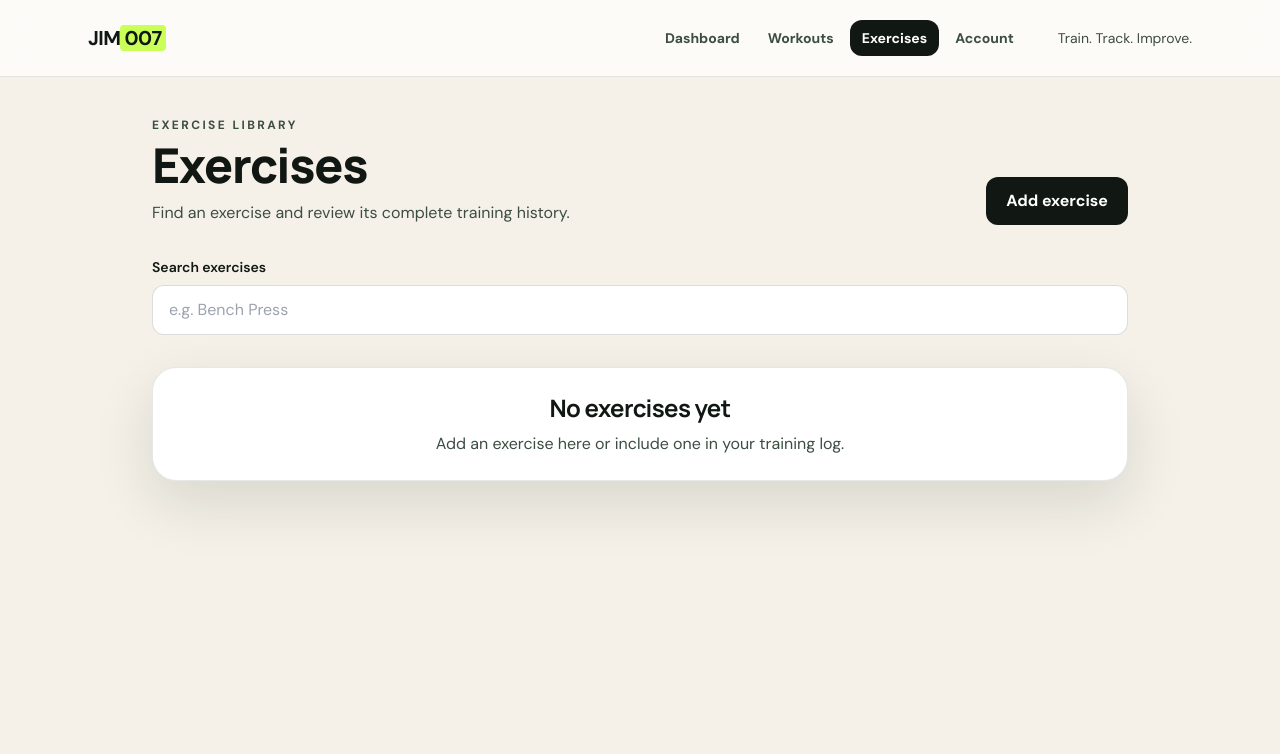
Test: authentication and optional integrations › can cancel the form and keeps API errors actionable
Step 1. Click the button "Add exercise" → (1057, 201), box [986, 177, 1128, 225]
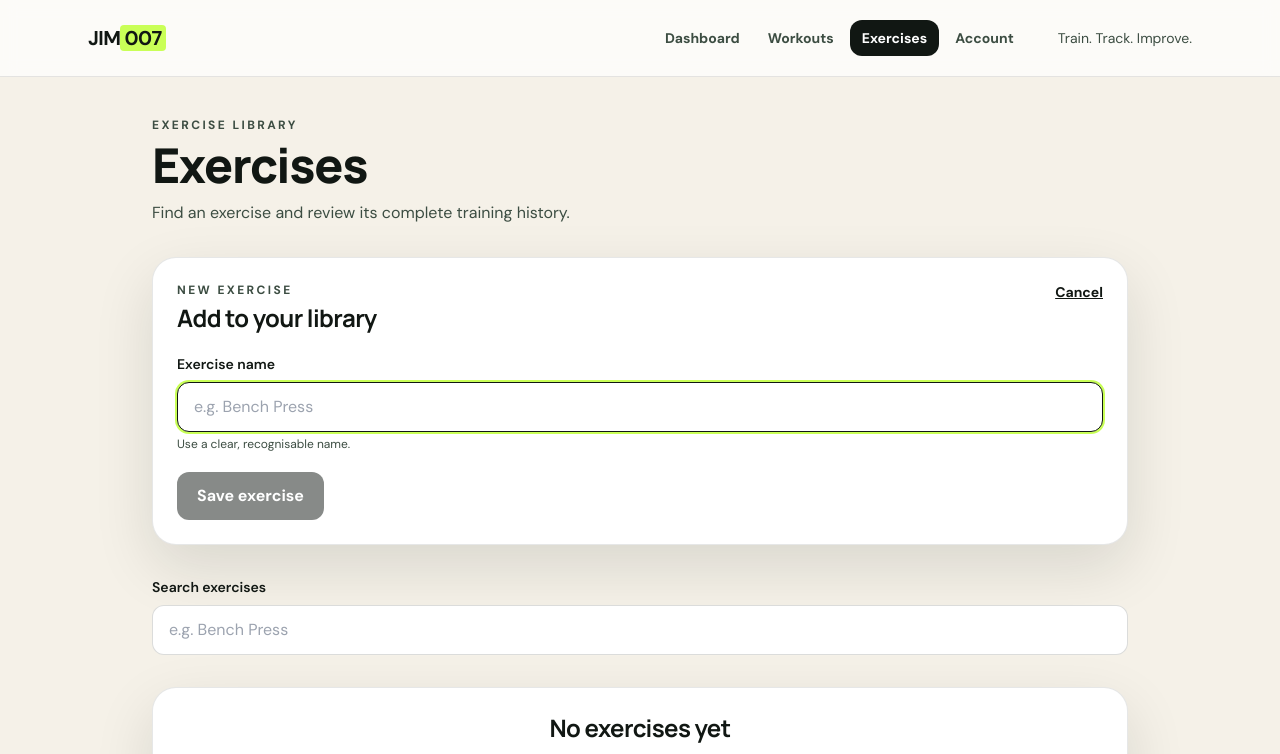
Step 2. Click the button "Cancel" → (1079, 292), box [1055, 282, 1103, 302]
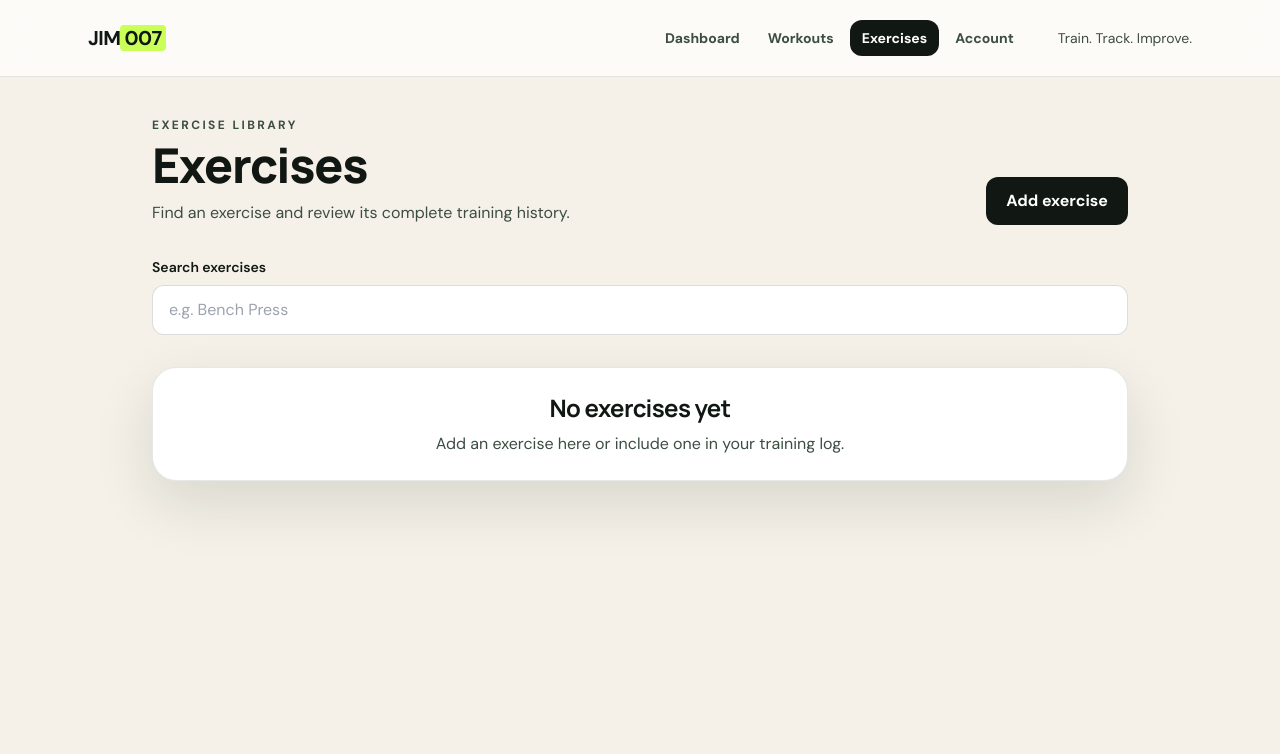
Expected: the label "Exercise name" is gone
Step 3. Click the button "Add exercise" → (1057, 201), box [986, 177, 1128, 225]
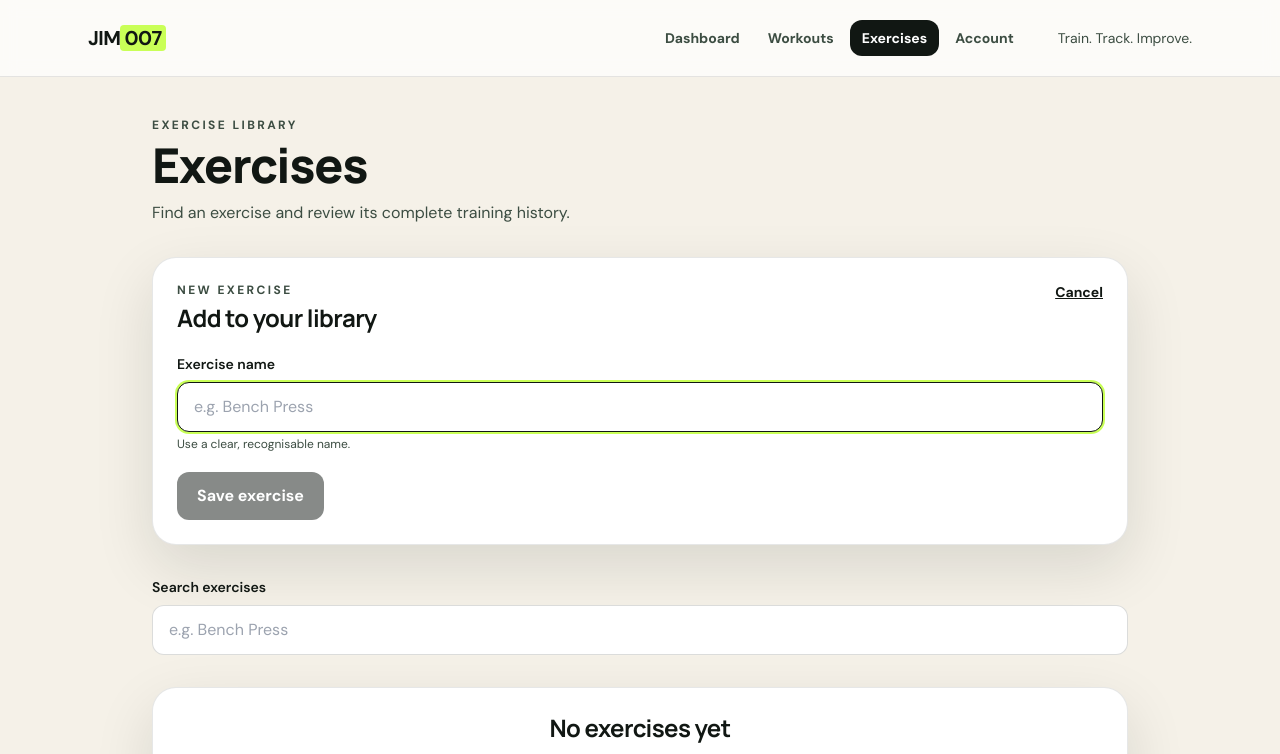
Step 4. Type "Squat" into the field labelled "Exercise name" → (640, 407), box [177, 382, 1103, 432]
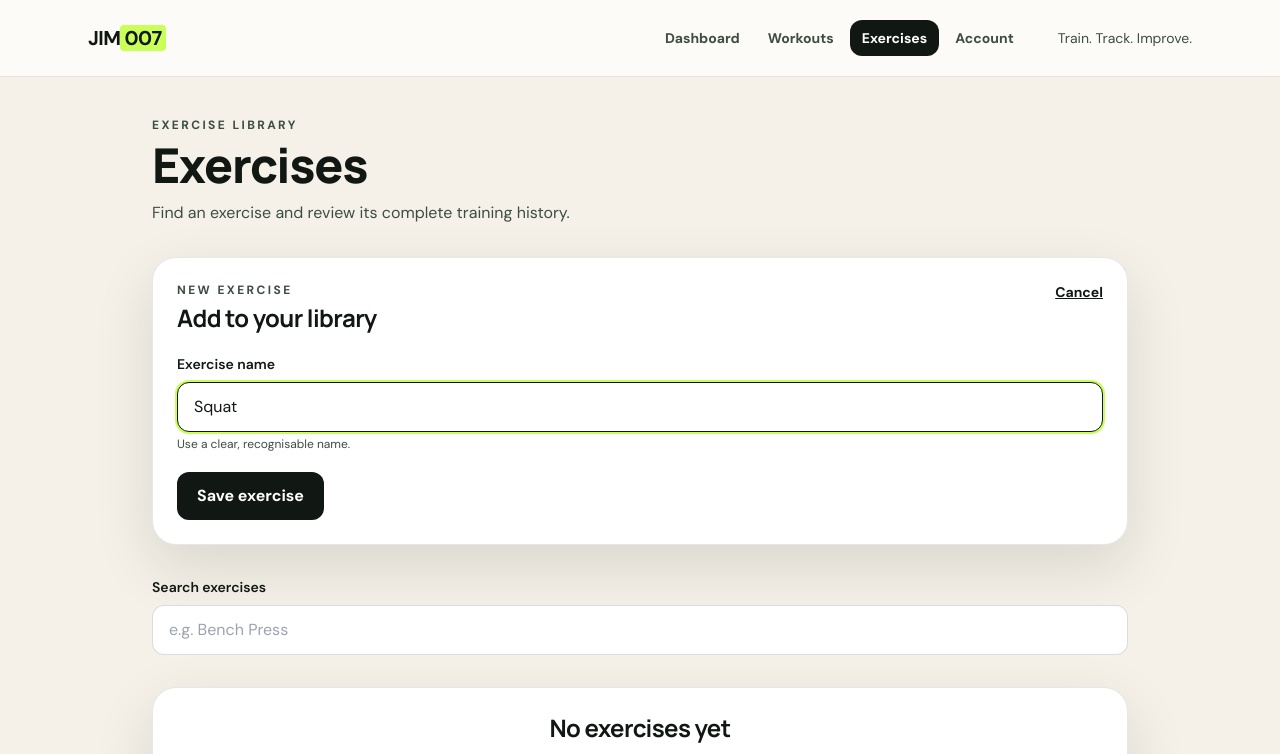
Step 5. Click the button "Save exercise" → (250, 496), box [177, 472, 324, 520]
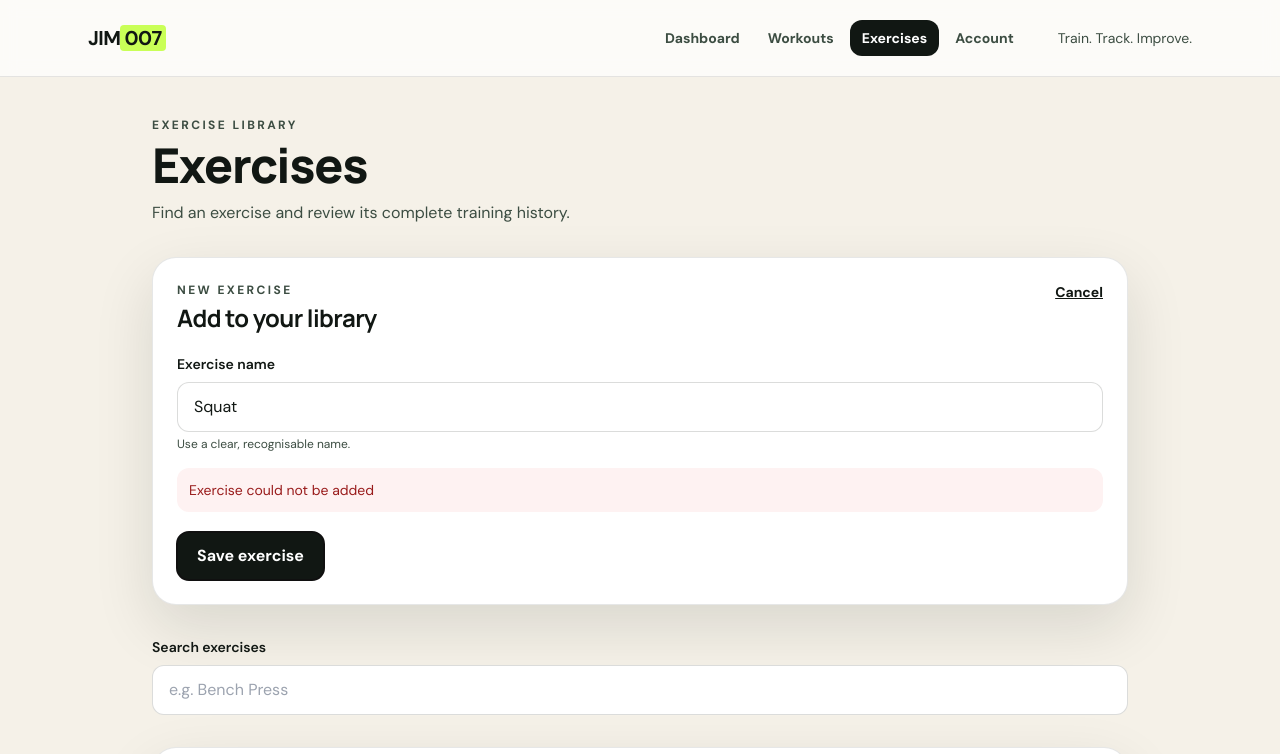
Expected: the message reads "Exercise could not be added", [189, 481, 374, 499]
